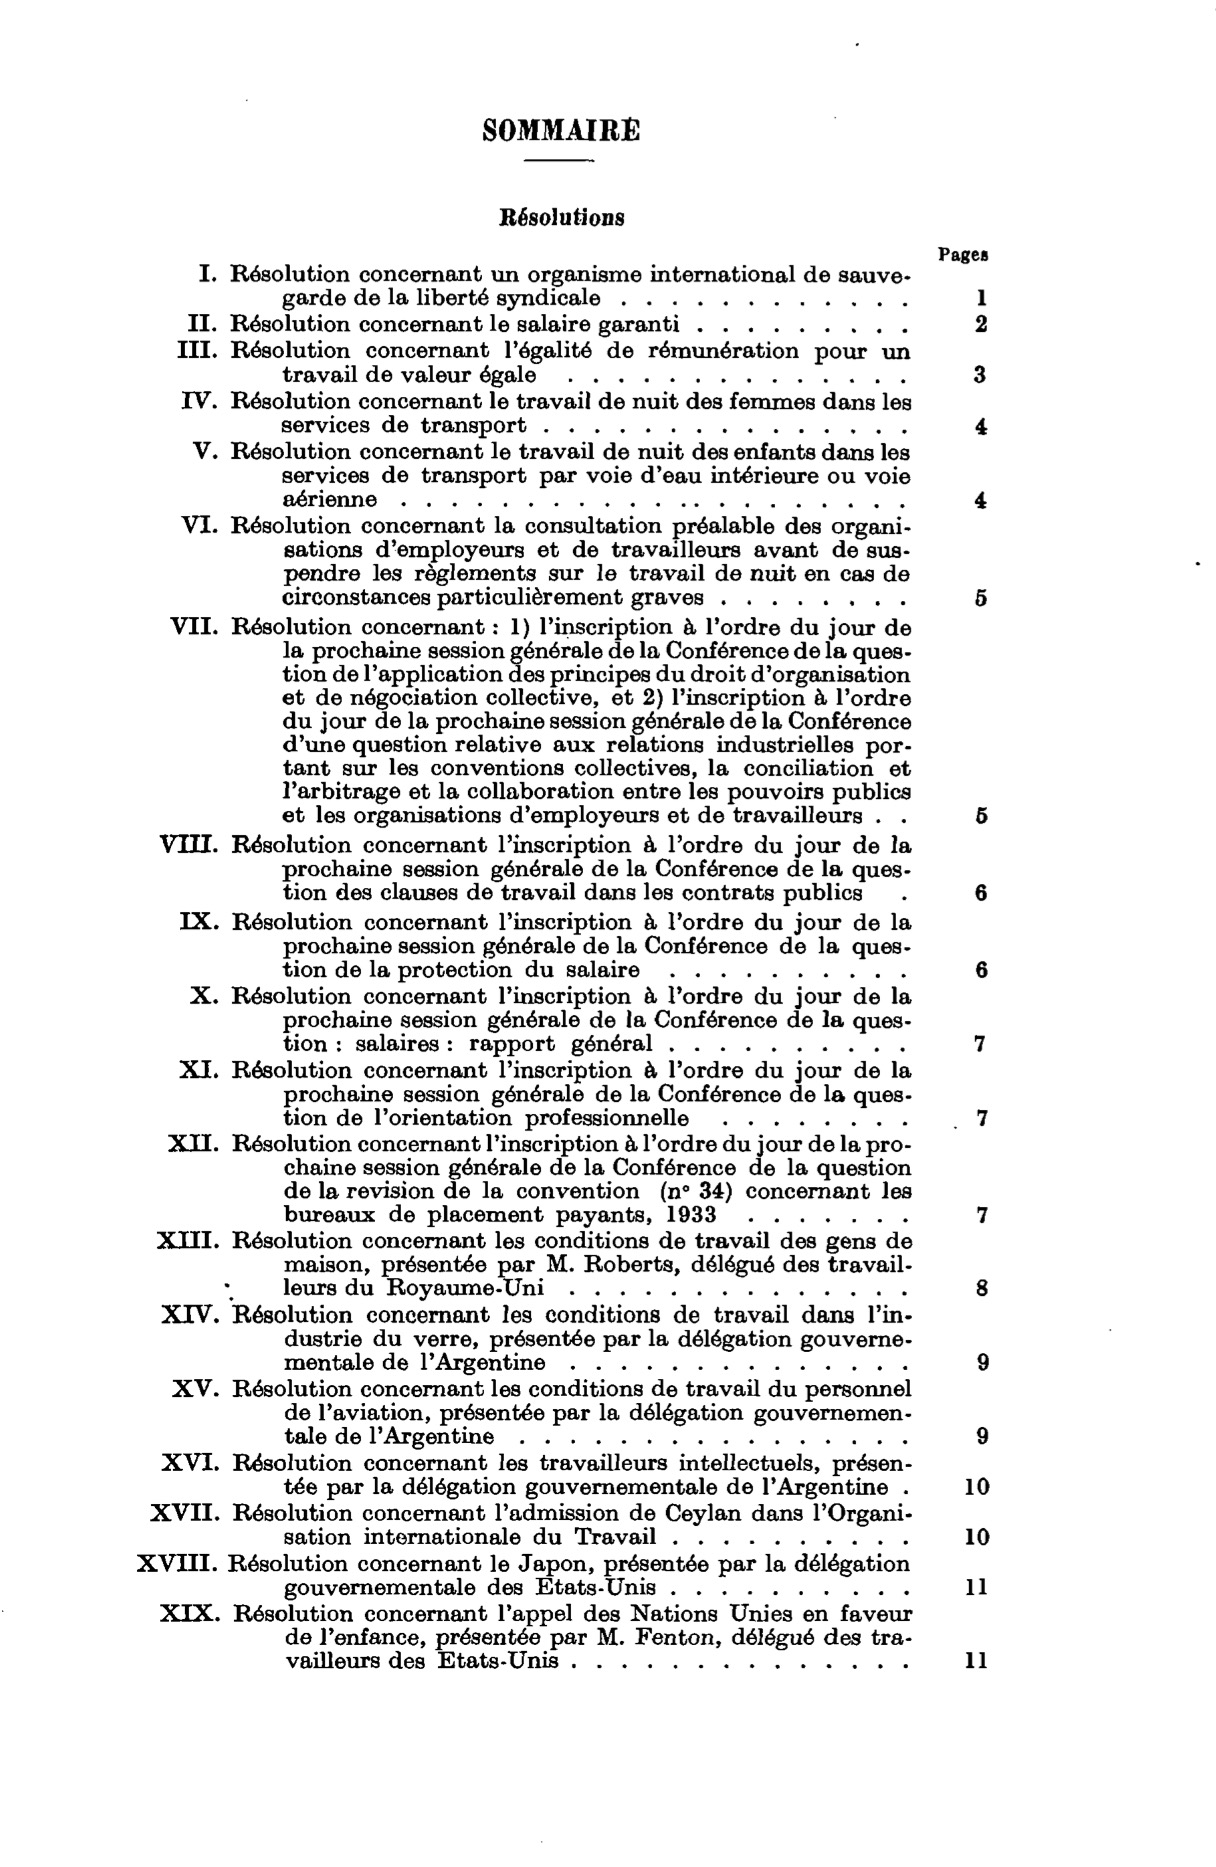MainZone-Head: (473, 107, 651, 157)
TableZone-Head: (129, 188, 1033, 1719)
